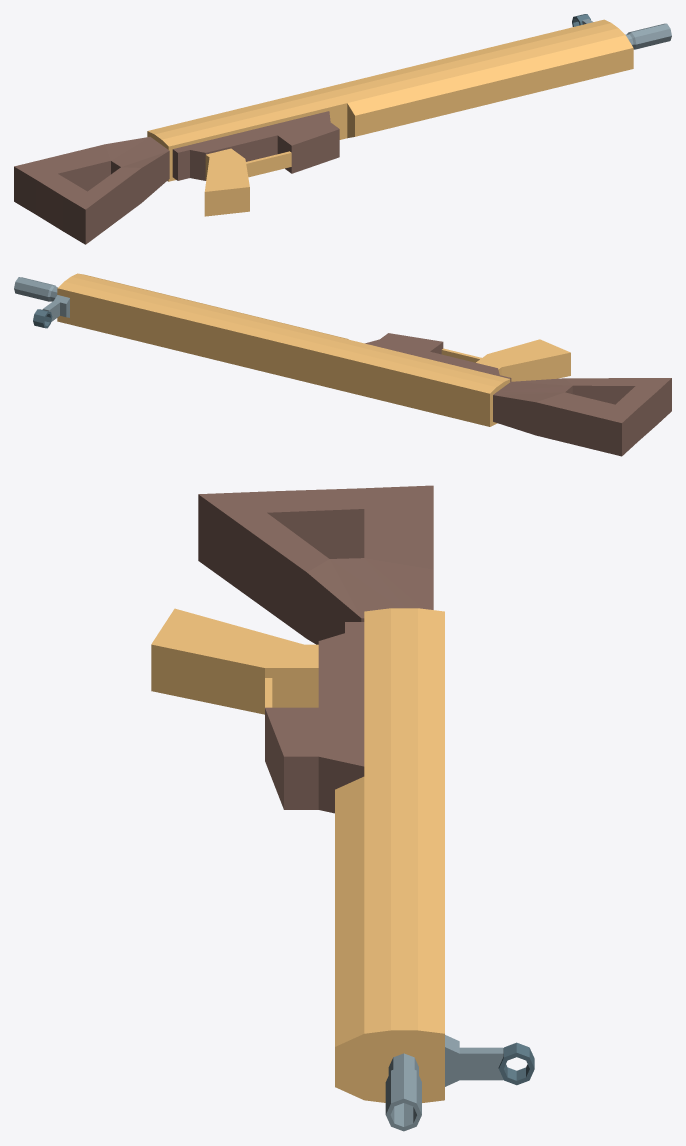
Rendered from Assaultrifle.fbx.
The picture shows the model from 3 angles, top to bottom: view 1: azimuth 30°, elevation 25°; view 2: azimuth 150°, elevation 25°; view 3: azimuth 270°, elevation 25°; orthographic projection. The views are drawn at different scales.
Parts seen in each view (by area): view 1: Assaultrifle; view 2: Assaultrifle; view 3: Assaultrifle.
Boxes of the visible parts, bbox=[...] form: Assaultrifle: bbox=[14, 14, 671, 244]; Assaultrifle: bbox=[14, 273, 671, 456]; Assaultrifle: bbox=[151, 485, 534, 1131].
Size of the model in its own units: 9.6 by 0.55 by 2.61.
